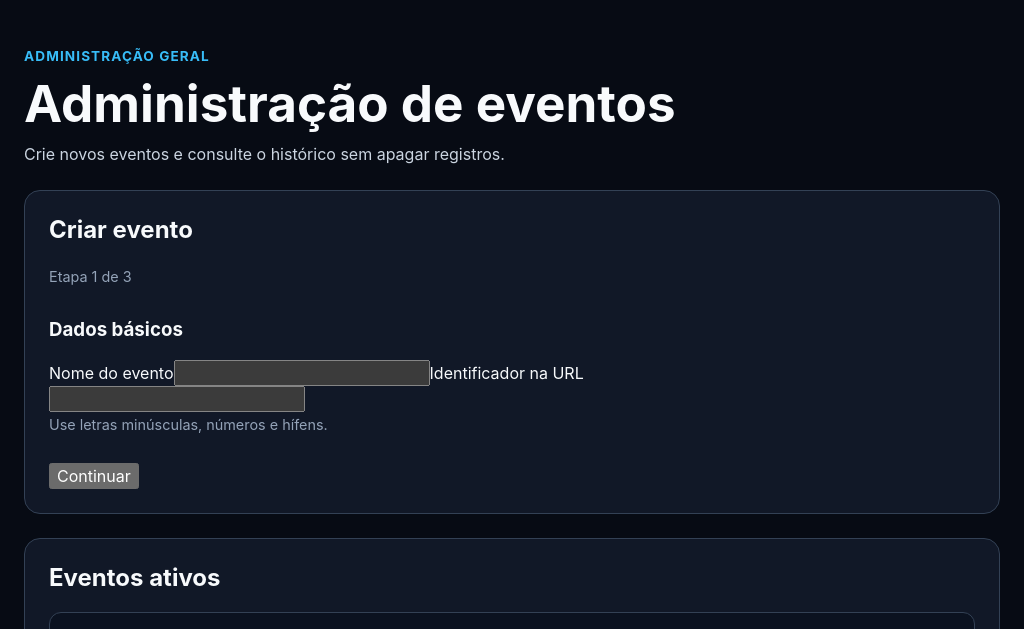
Test: event administration interactions › creates a fresh draft only after review, then opens its configuration
Type " Novo evento " into the field with id "event-name" at (302, 373), box x1=174 y1=360 x2=430 y2=386
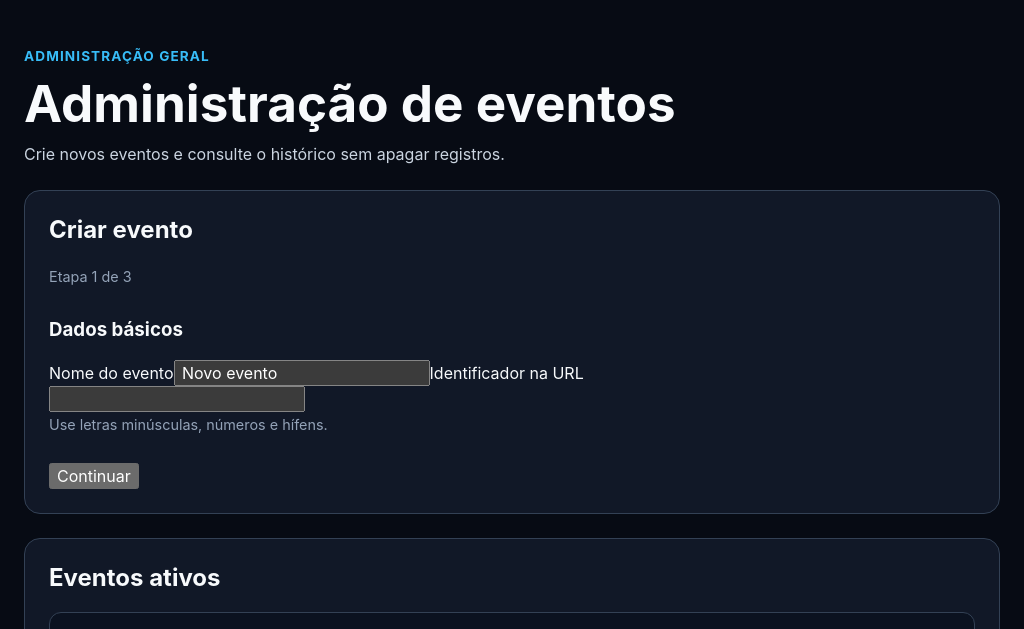
Type "novo-evento" into the field with id "event-slug" at (177, 399), box x1=49 y1=386 x2=305 y2=412
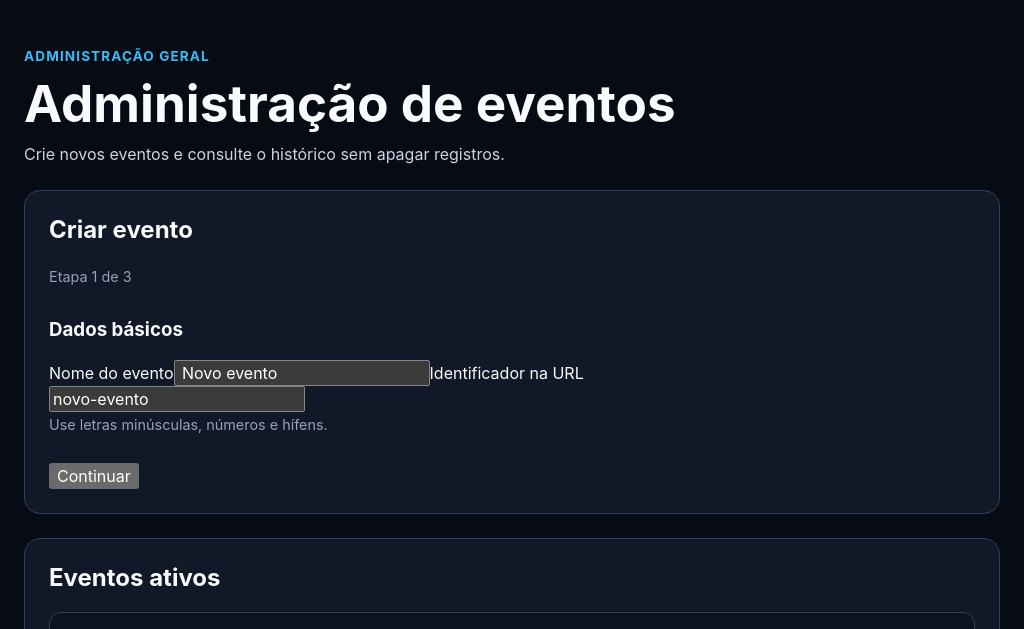
Click the button "Continuar" at (94, 476), box x1=49 y1=463 x2=139 y2=489
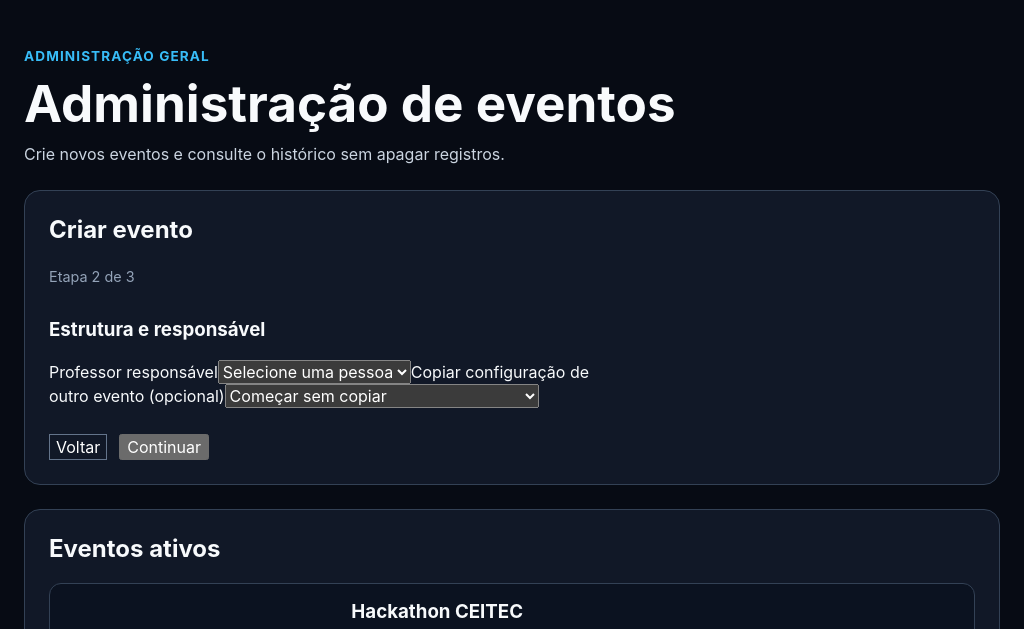
Select "Admin" in the dropdown with id "event-professor" at (314, 372), box x1=218 y1=360 x2=411 y2=384
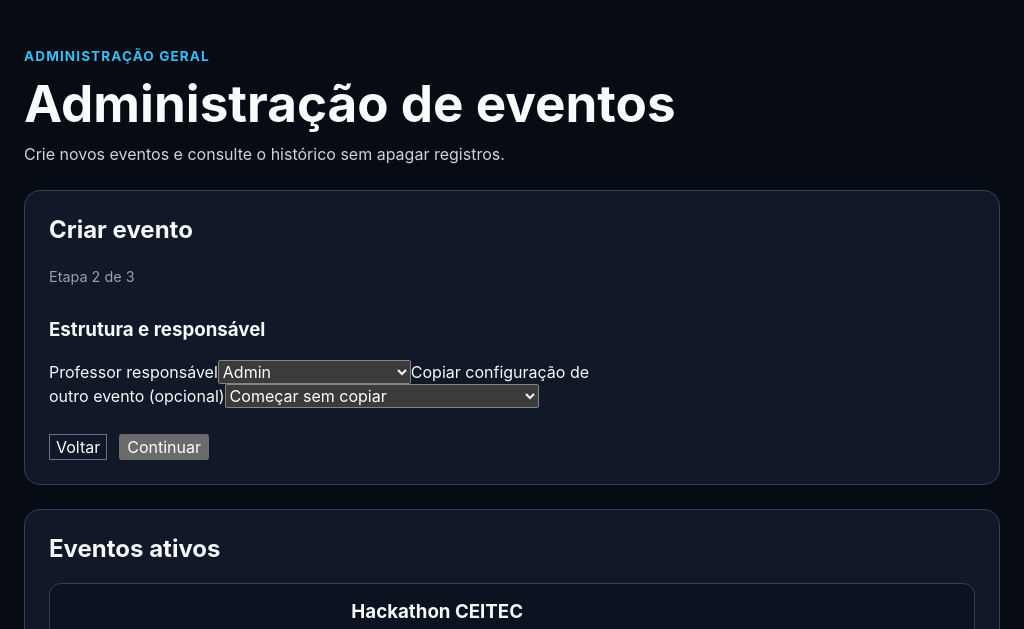
Click the button "Continuar" at (164, 447), box x1=119 y1=434 x2=209 y2=460
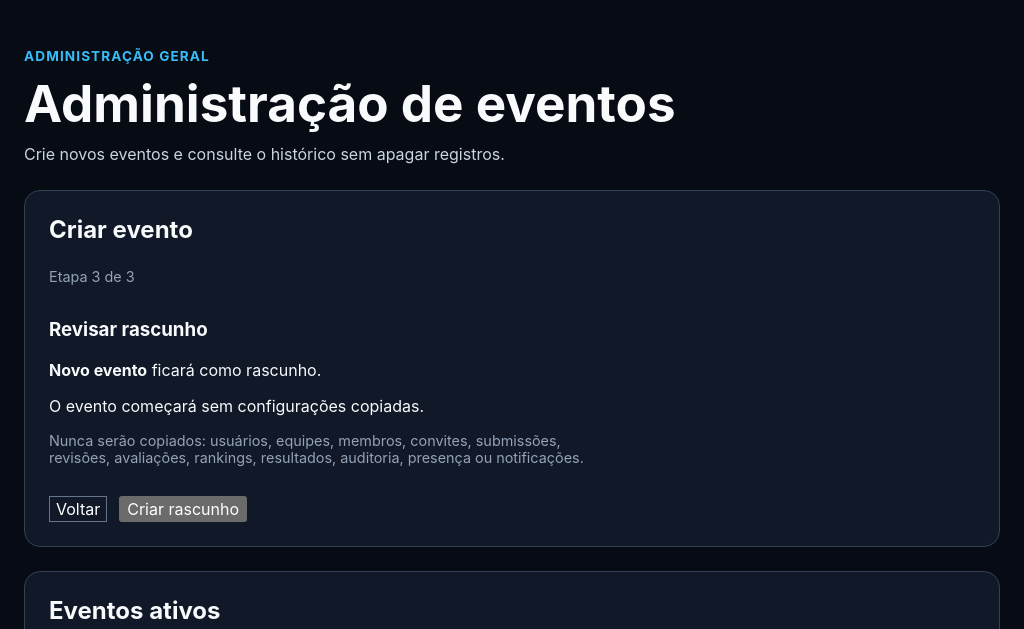
Expected: the text "Nunca serão copiados" is shown, x1=49 y1=432 x2=584 y2=466
Submit the form with class "event-form", box x1=49 y1=264 x2=593 y2=522
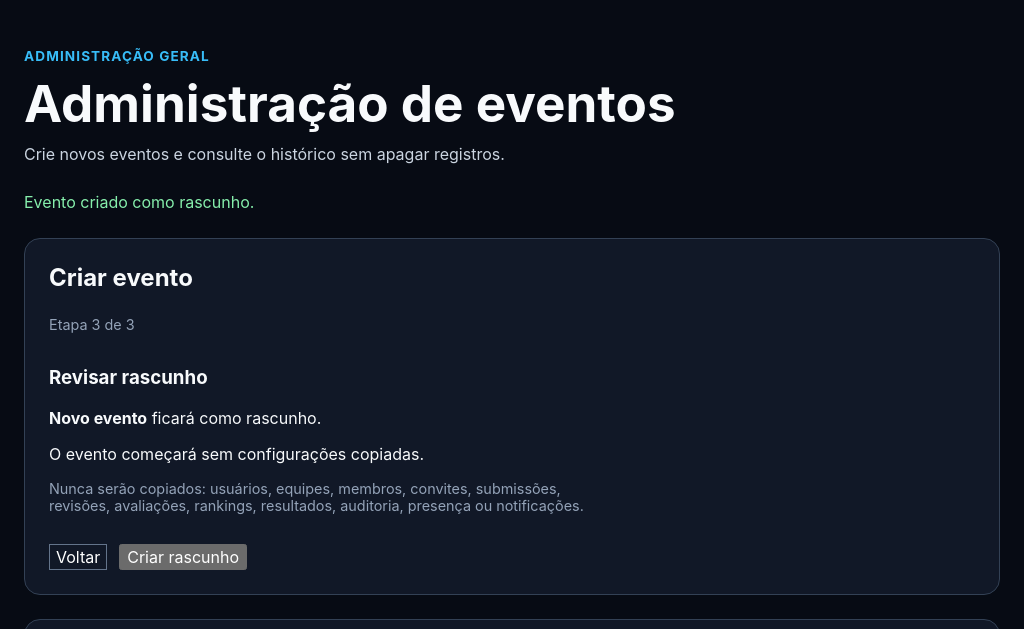
Expected: the message "Evento criado como rascunho." is shown, x1=24 y1=192 x2=254 y2=212
